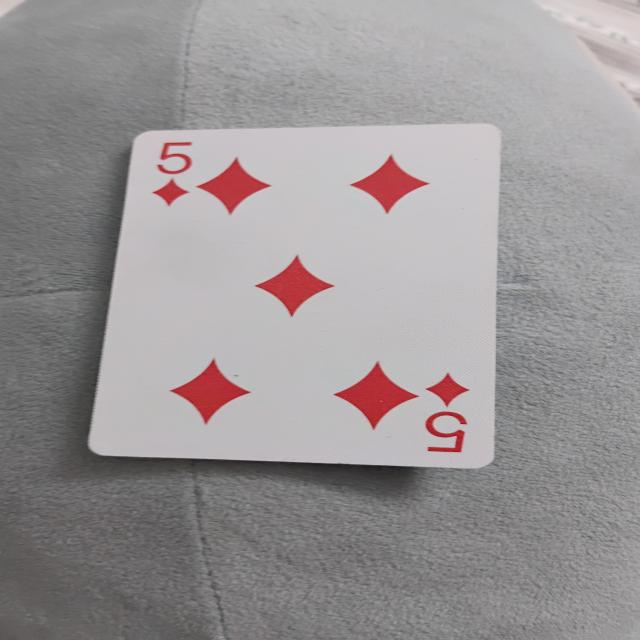5D: (81, 115, 508, 478)
